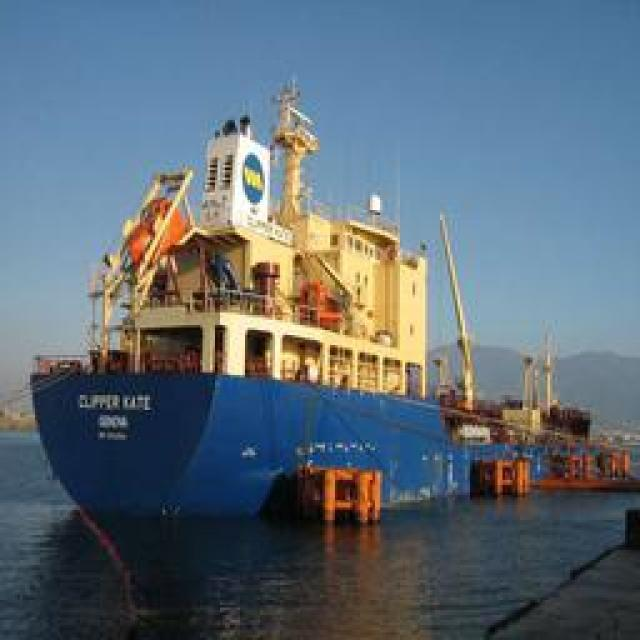CIV_Ship: (31, 85, 491, 608)
